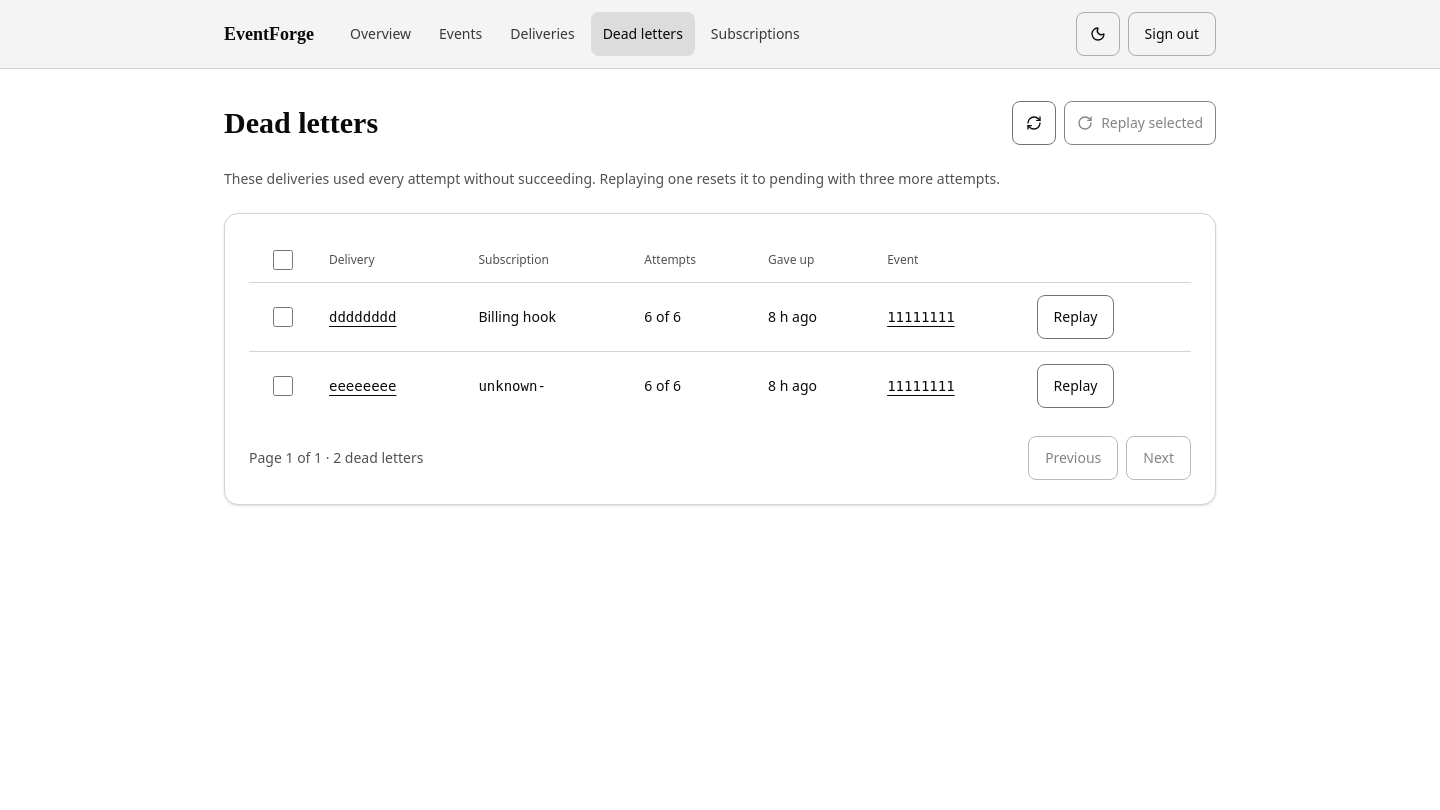
it: Replaying one delivery › says so when the delivery is no longer a dead letter
Click the button with aria-label "Replay delivery dddddddd" at (1076,317), box [1037,295,1114,339]
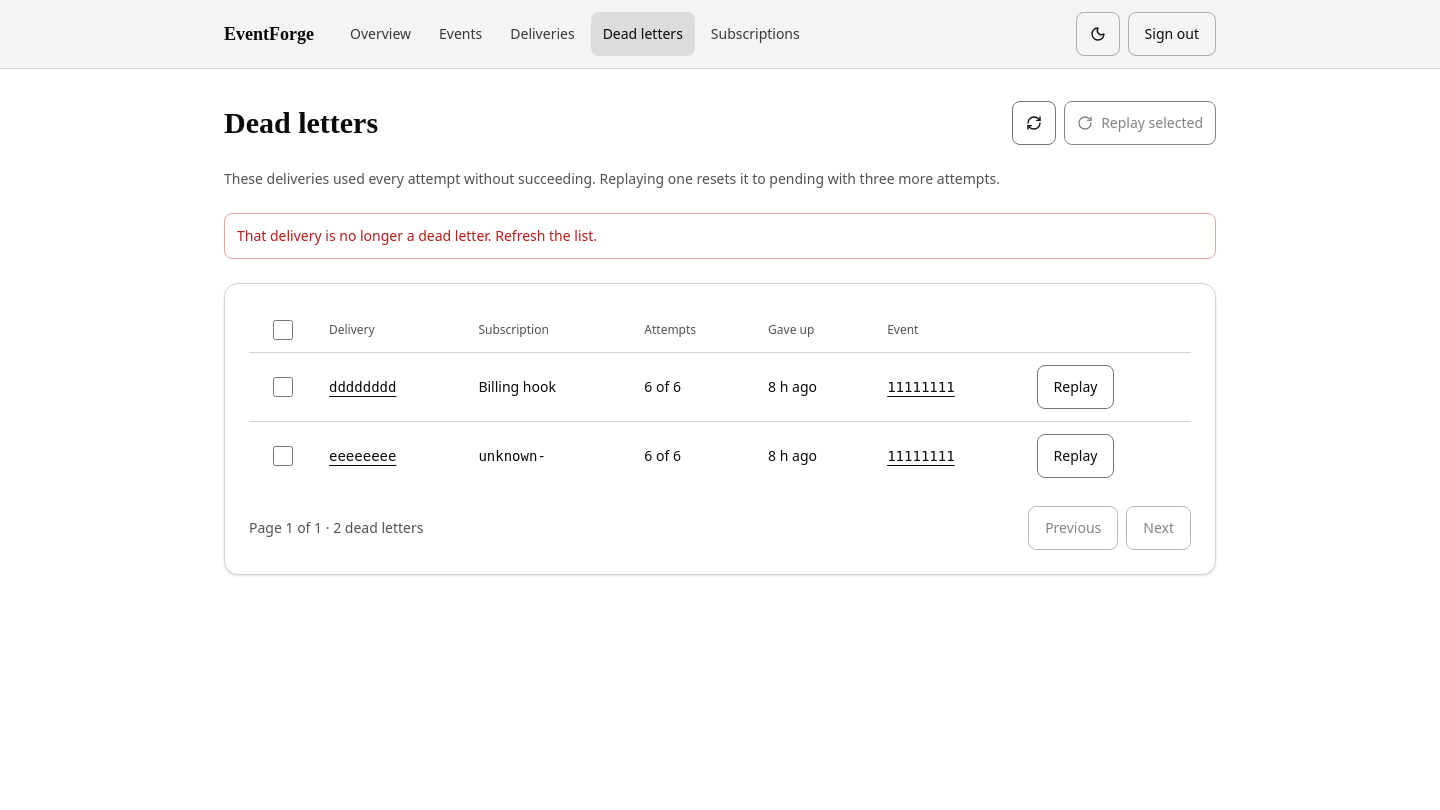
expect the message shows "no longer a dead letter": met, box [237,226,597,245]
